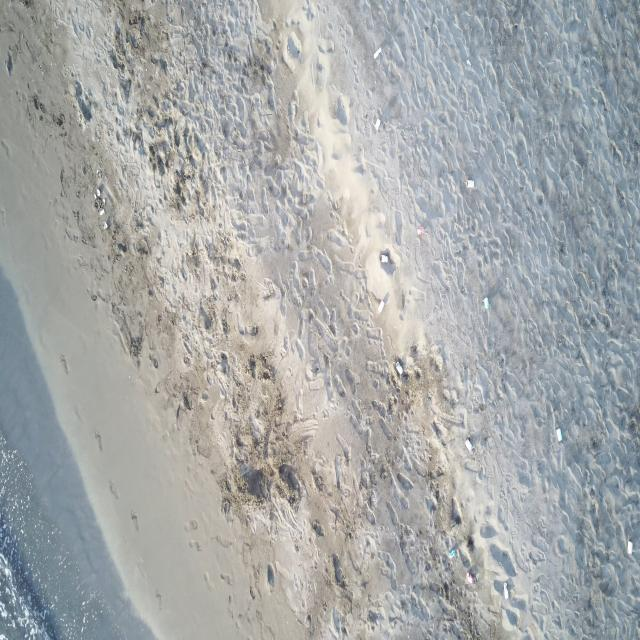tin-and-aluminum-cans: (377, 300, 385, 316), (373, 46, 382, 60), (556, 426, 563, 442), (503, 581, 509, 599), (374, 117, 381, 132), (465, 439, 473, 452), (396, 360, 403, 374), (466, 572, 474, 584), (380, 254, 390, 263), (627, 540, 633, 555), (466, 178, 474, 188), (484, 296, 489, 311), (449, 548, 455, 560), (417, 227, 424, 235)
